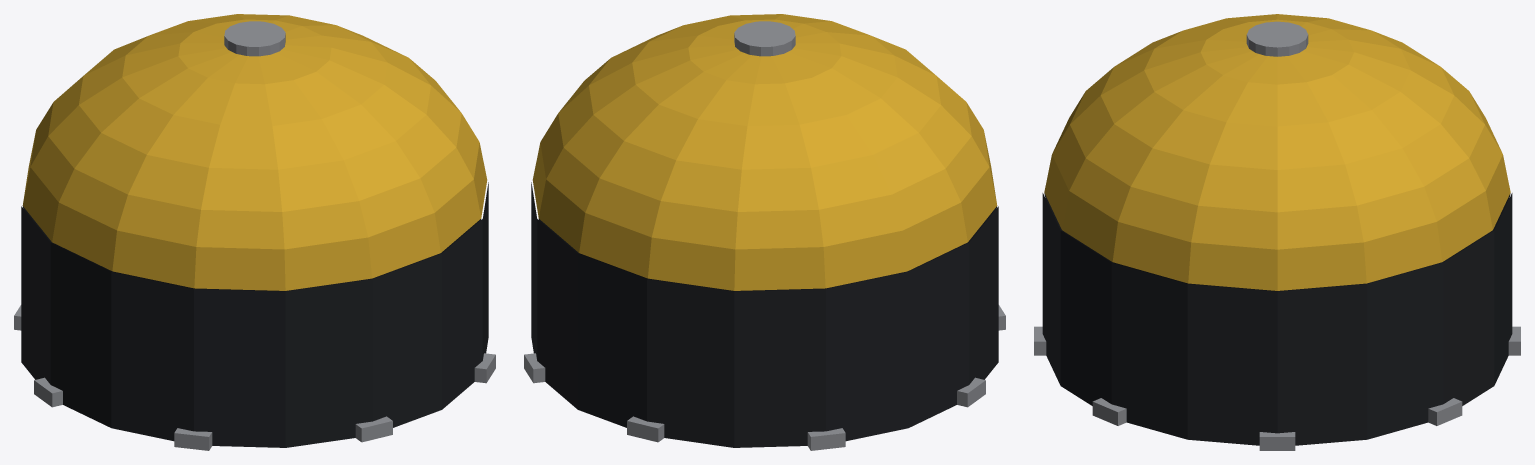
File: dawn-xenon-tank.glb
The picture shows the model from 3 angles, left to right: view 1: azimuth 30°, elevation 25°; view 2: azimuth 150°, elevation 25°; view 3: azimuth 270°, elevation 25°; orthographic projection.
Parts seen in each view (by area): view 1: DawnXenonTank_FoilGold, DawnXenonTank_HullBlack, DawnXenonTank_Titanium; view 2: DawnXenonTank_FoilGold, DawnXenonTank_HullBlack, DawnXenonTank_Titanium; view 3: DawnXenonTank_FoilGold, DawnXenonTank_HullBlack, DawnXenonTank_Titanium.
Part boxes in pixels (x1=…): DawnXenonTank_FoilGold: x1=22, y1=14, x2=487, y2=290; DawnXenonTank_HullBlack: x1=21, y1=182, x2=488, y2=447; DawnXenonTank_Titanium: x1=14, y1=21, x2=495, y2=450; DawnXenonTank_FoilGold: x1=532, y1=14, x2=997, y2=290; DawnXenonTank_HullBlack: x1=531, y1=182, x2=998, y2=447; DawnXenonTank_Titanium: x1=524, y1=21, x2=1005, y2=450; DawnXenonTank_FoilGold: x1=1044, y1=14, x2=1510, y2=290; DawnXenonTank_HullBlack: x1=1042, y1=193, x2=1512, y2=445; DawnXenonTank_Titanium: x1=1034, y1=21, x2=1520, y2=450.
Size of the model in its own units: 0.95 by 0.675 by 0.95.
